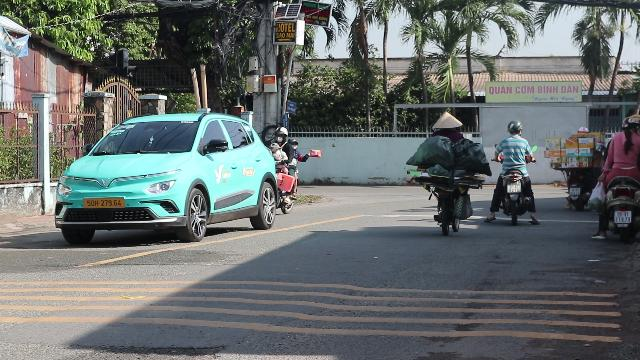helmet: (621, 114, 639, 132), (506, 119, 522, 135)
licenseplate: (614, 212, 630, 222), (508, 184, 520, 192)
motorcyclist: (588, 112, 640, 241), (487, 118, 538, 224)
